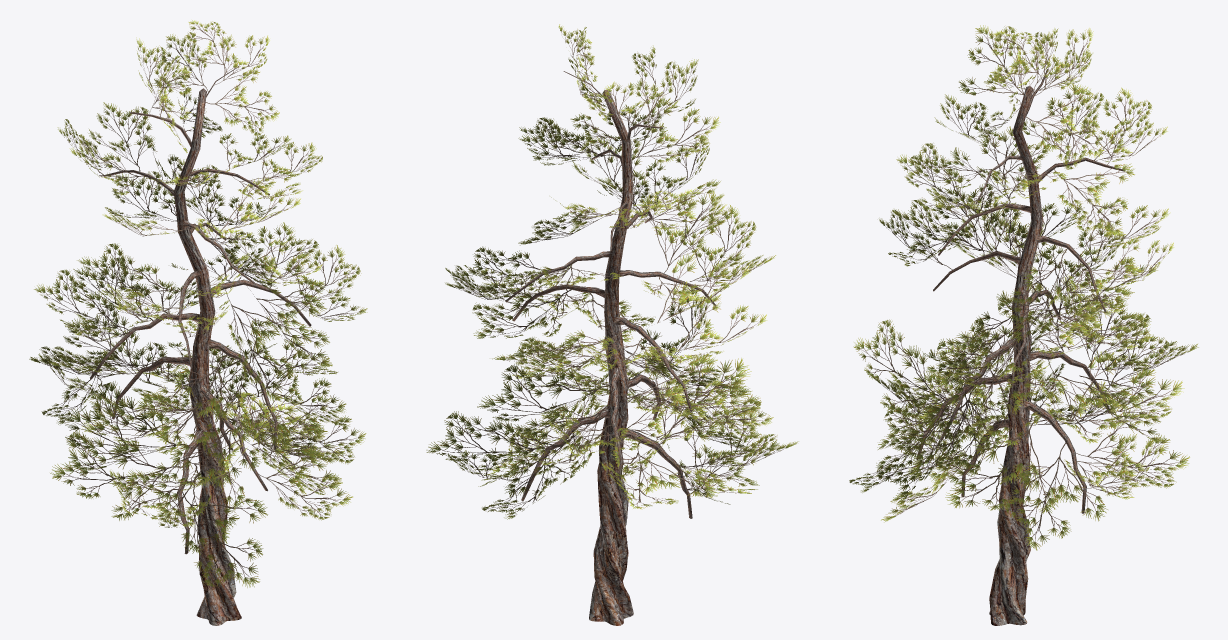
Rendered from pine04.obj.
The picture shows the model from 3 angles, left to right: view 1: azimuth 30°, elevation 25°; view 2: azimuth 150°, elevation 25°; view 3: azimuth 270°, elevation 25°; orthographic projection. The views are drawn at different scales.
Parts seen in each view (by area): view 1: tree; view 2: tree; view 3: tree.
Part boxes in pixels (x1,y1,x2,y2): tree: (29, 20, 367, 625); tree: (426, 24, 798, 625); tree: (849, 25, 1198, 625).
Bounding box in the file's own units: 158 × 279 × 157.
2 materials, 2 textured.
